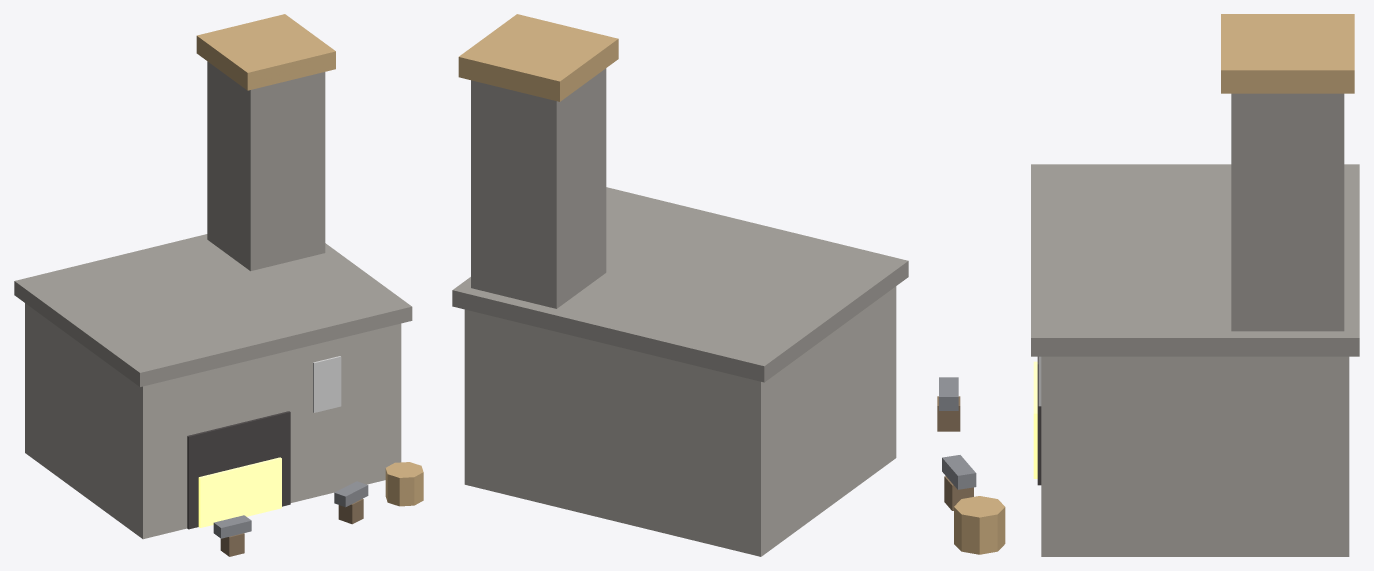
3 renders of one model, left to right at view 1: azimuth 30°, elevation 25°; view 2: azimuth 150°, elevation 25°; view 3: azimuth 270°, elevation 25°, orthographic. The views are drawn at different scales.
Visible parts, largest first — view 1: body; view 2: body; view 3: body.
Boxes of the visible parts, box(x1,y1,x2,y2) form: body: box(14, 14, 423, 556); body: box(452, 14, 908, 556); body: box(937, 14, 1359, 556).
Size of the model in its own units: 8 by 10.5 by 8.23.
